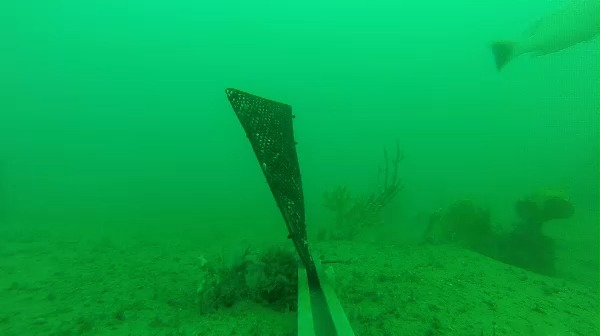fish: (482, 0, 600, 83)
